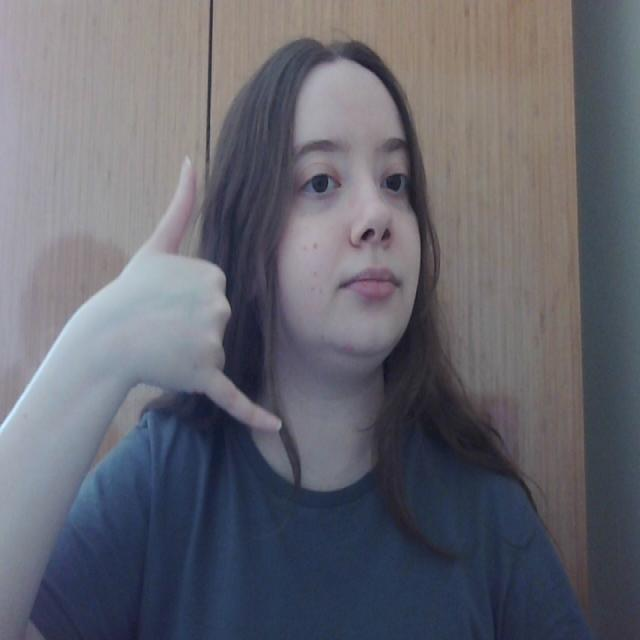Telefon: (145, 153, 287, 444)
